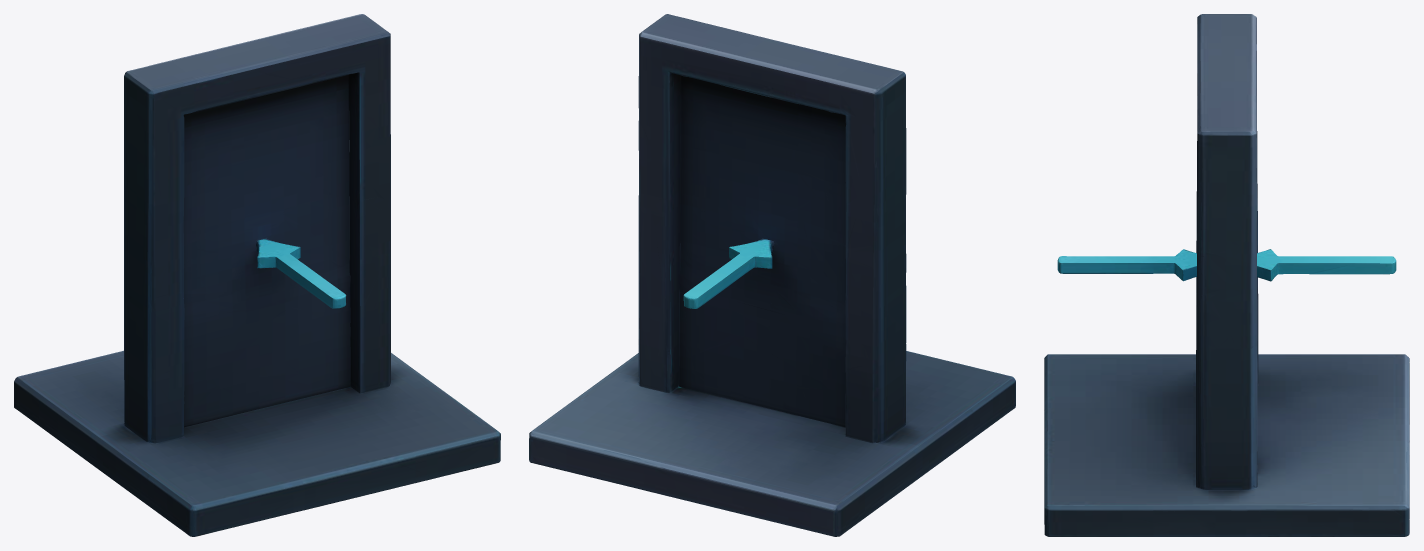
The model's file is porta.glb.
3 views of the same model, side by side, from view 1: azimuth 30°, elevation 25°; view 2: azimuth 150°, elevation 25°; view 3: azimuth 270°, elevation 25° (orthographic).
Bounding box in the file's own units: 0.853 × 1 × 0.8552.
Materials: 1 (1 with a texture image).
